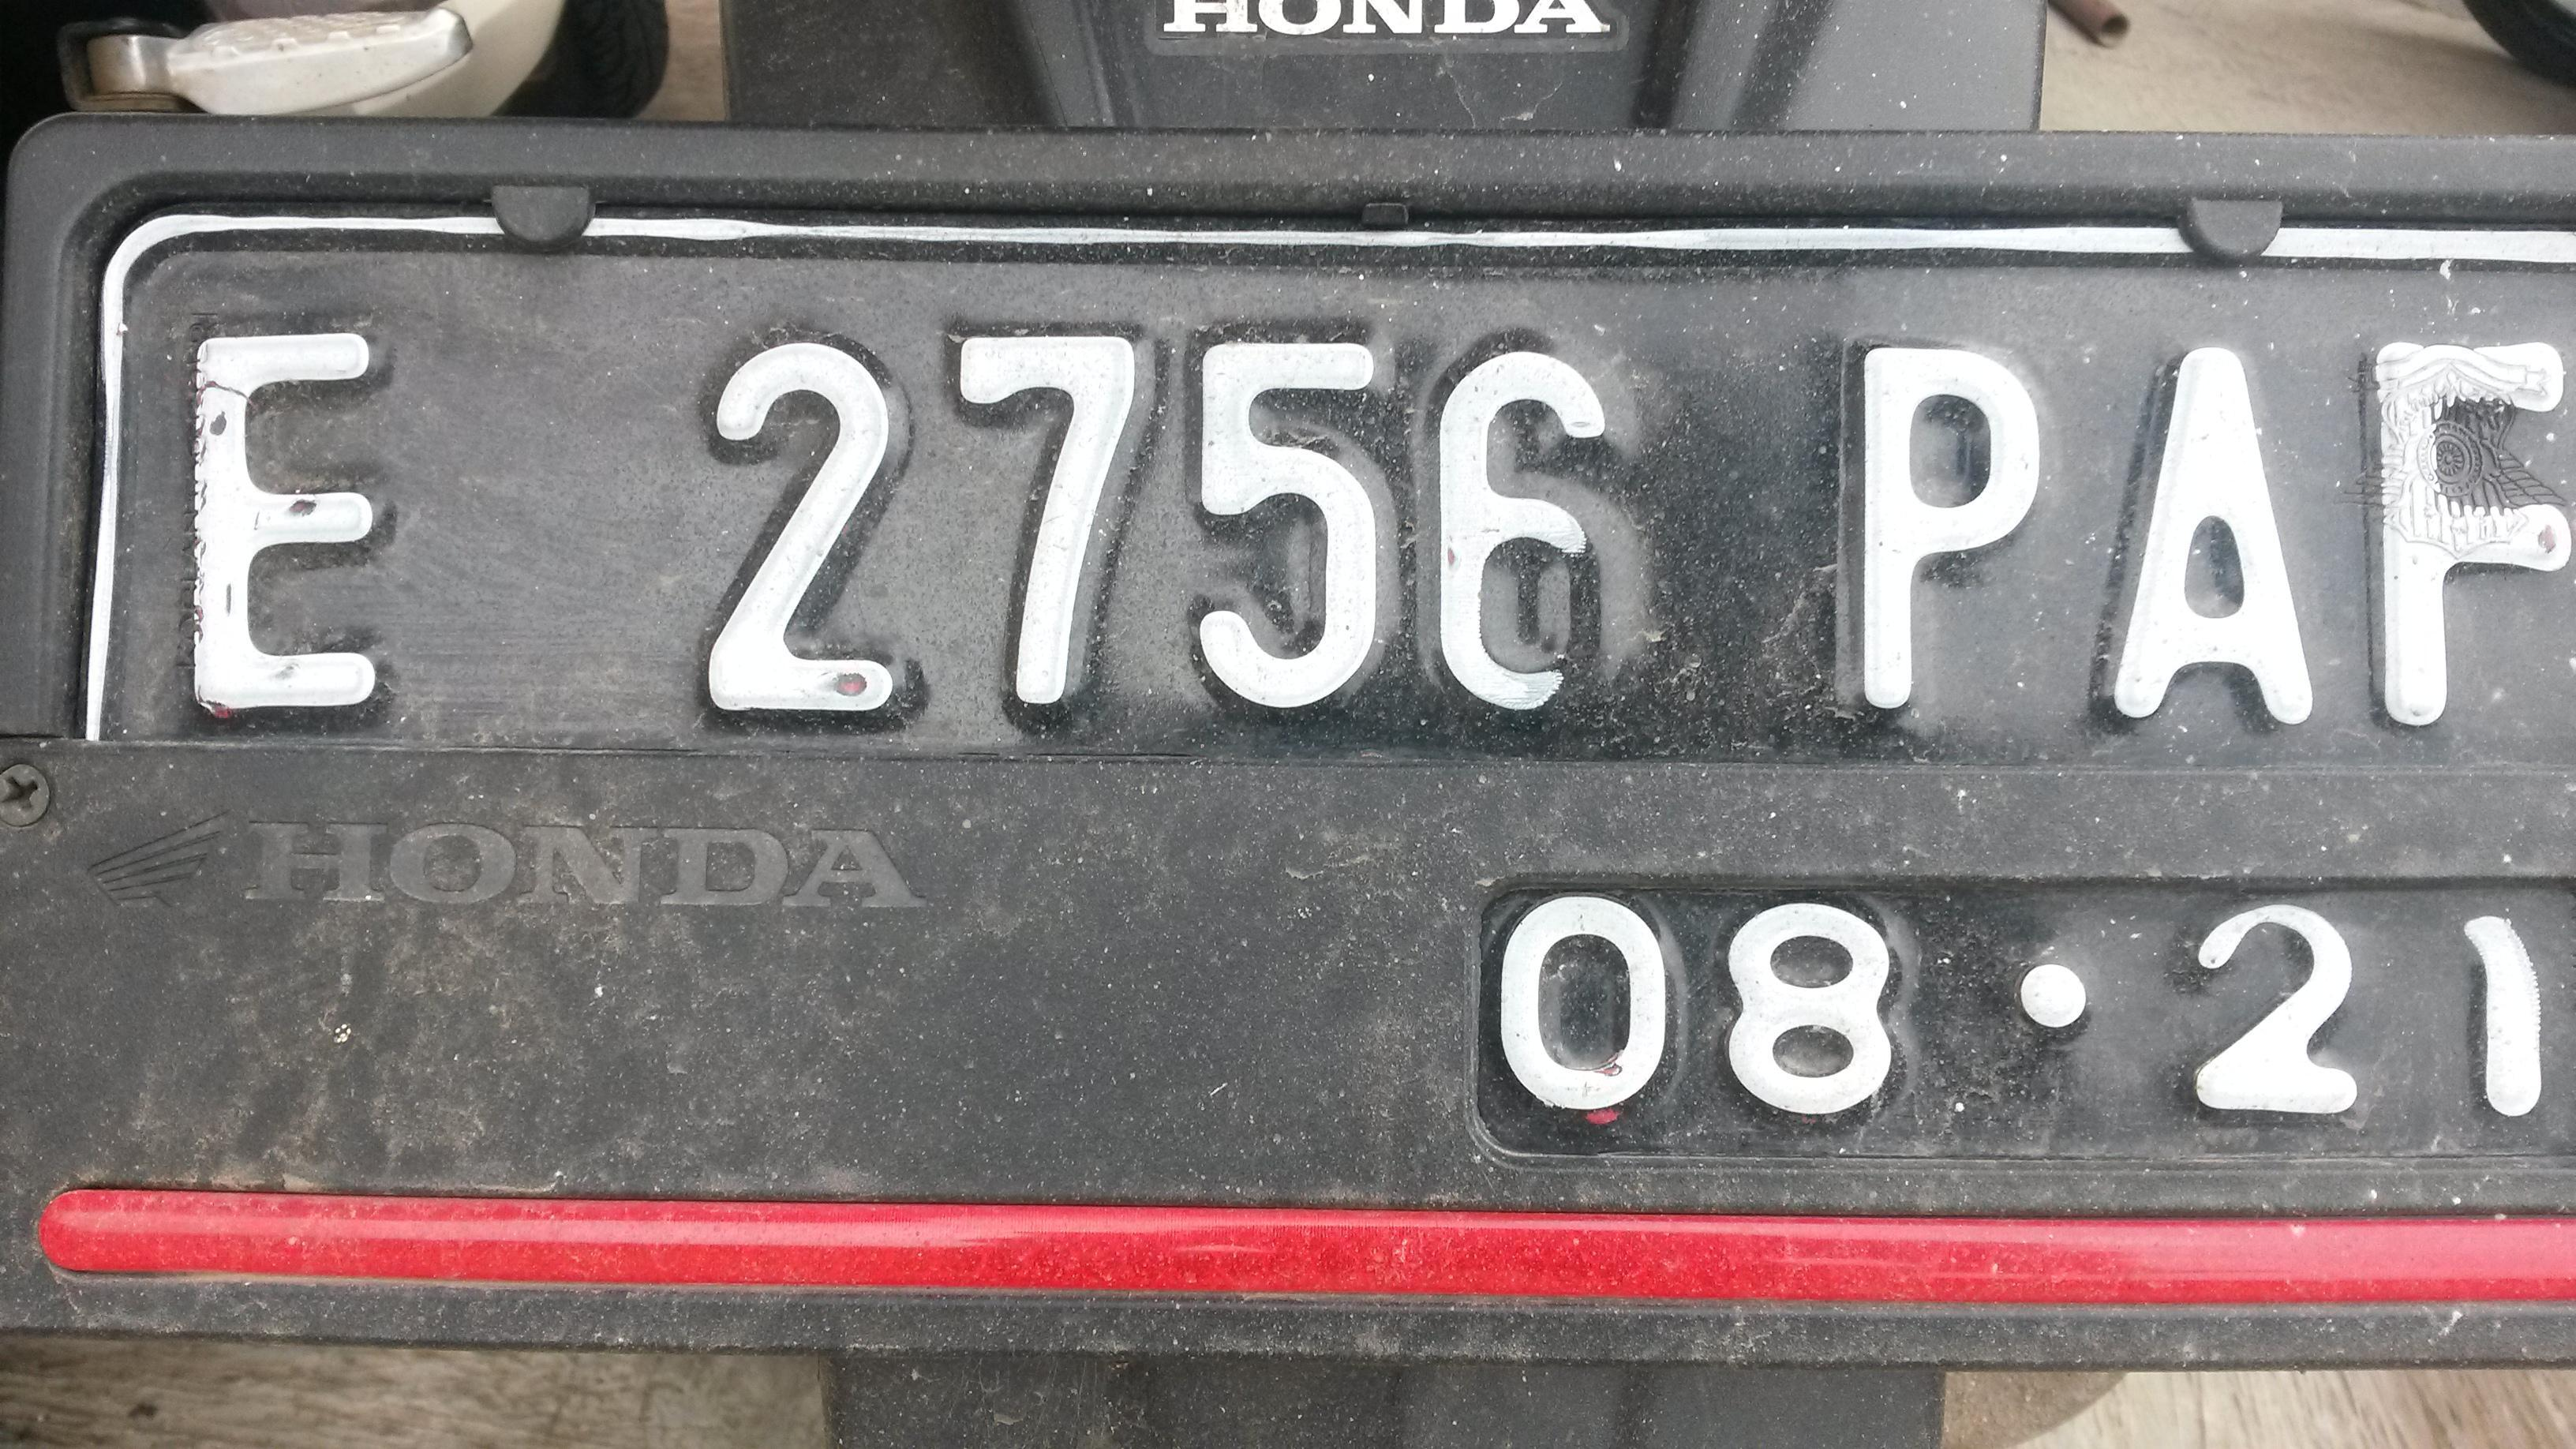2: (651, 318, 934, 743)
5: (1152, 315, 1407, 724)
6: (1407, 324, 1654, 734)
7: (922, 315, 1148, 740)
A: (2059, 324, 2346, 748)
E: (161, 333, 437, 743)
F: (2319, 324, 2564, 747)
P: (1808, 331, 2063, 736)
